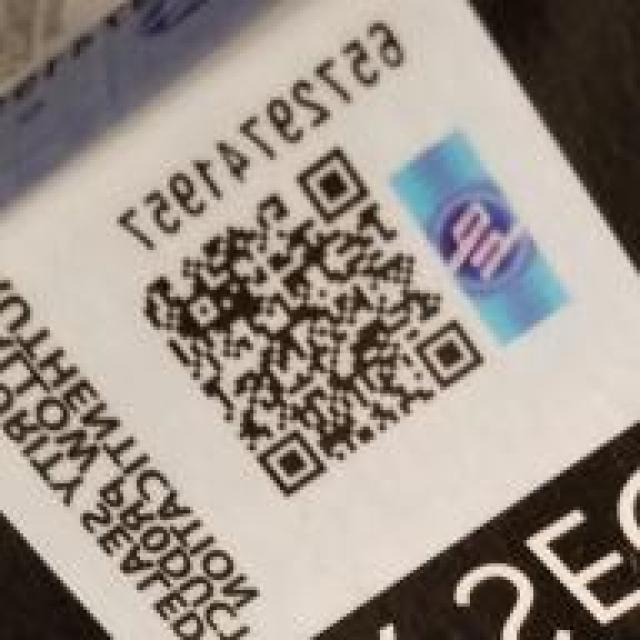qr_code: (134, 145, 486, 499)
